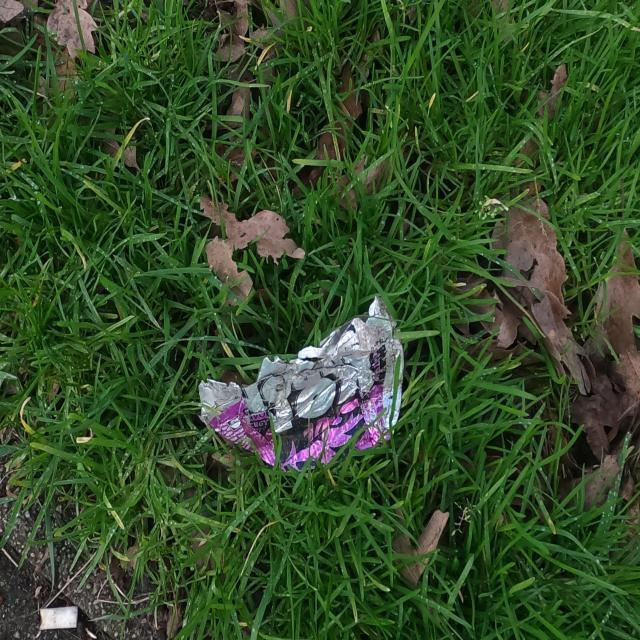Can-Metal: (196, 294, 408, 474)
